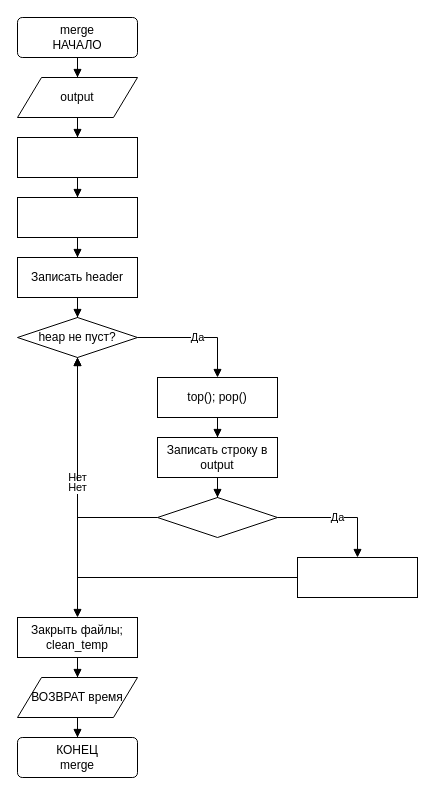
Some shapes in this 435 by 795 pixel diagram are drawn without their labels. The shapes that lost their labels are listed below. From the top down, each one's centre as x and y in pixels, then its label:
At point (77, 157): "Открыть temp-файлы".
At point (77, 217): "push 1-ю строку каждого в priority_queue".
At point (217, 517): "getline из файла idx?".
At point (357, 577): "extract_key; push".
